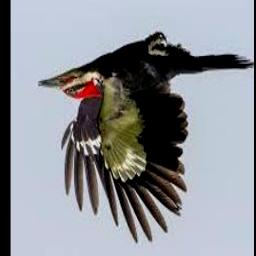Woodpecker: (36, 31, 253, 244)
